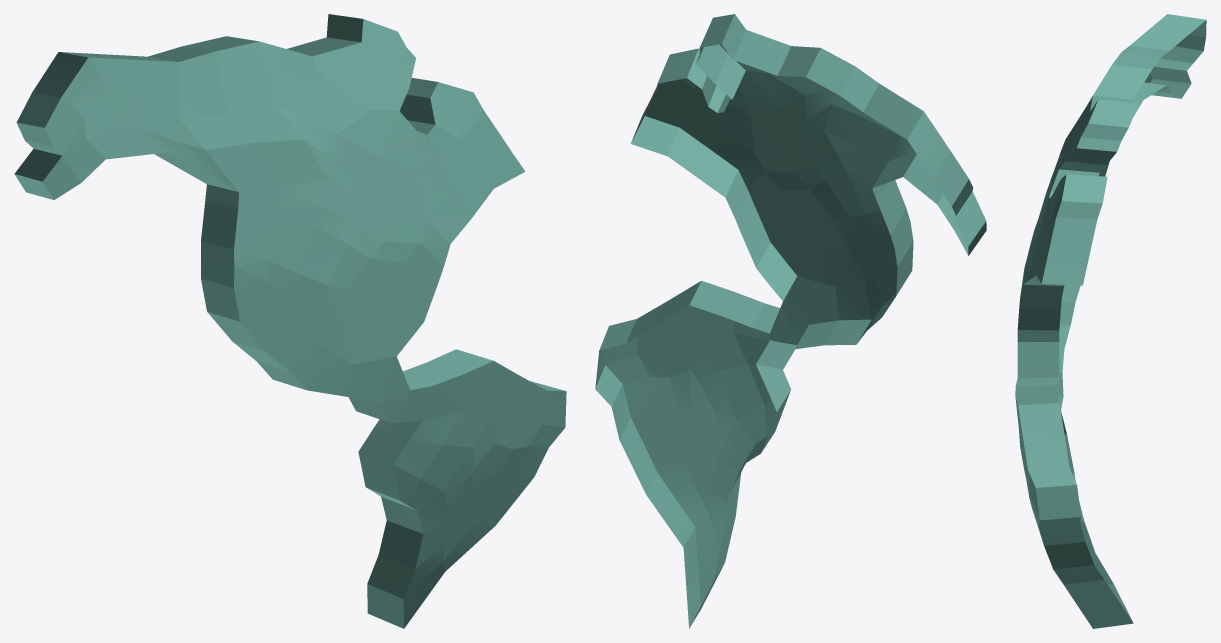
Rendered from Planet_C_America.fbx.
The picture shows the model from 3 angles, left to right: view 1: azimuth 30°, elevation 25°; view 2: azimuth 150°, elevation 25°; view 3: azimuth 270°, elevation 25°; orthographic projection. The views are drawn at different scales.
Parts seen in each view (by area): view 1: Continent2; view 2: Continent2; view 3: Continent2.
Part boxes in pixels (x1,y1,x2,y2): Continent2: (14, 14, 566, 628); Continent2: (595, 14, 986, 628); Continent2: (1015, 14, 1206, 628).
Bounding box in the file's own units: 2329 × 2984 × 1005.
